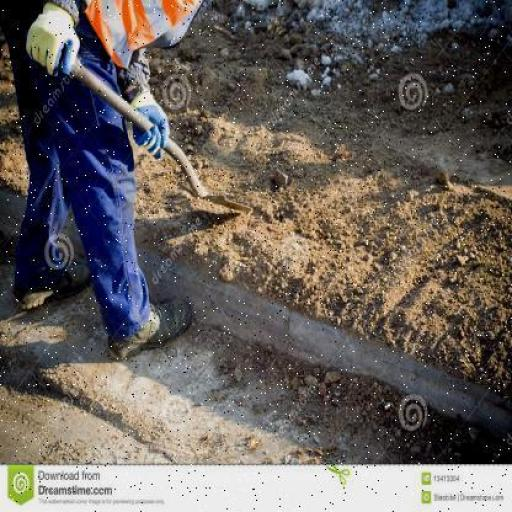safety_shoe: (112, 301, 192, 355), (16, 259, 84, 307)
